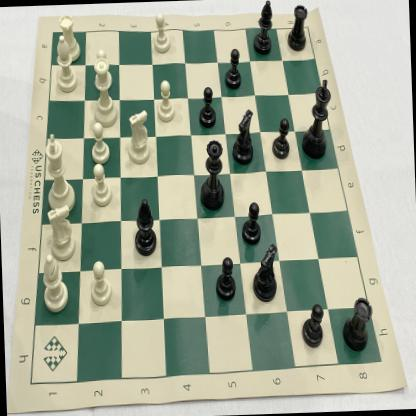bishop: (40, 252, 71, 312), (130, 195, 158, 259), (53, 34, 80, 95), (251, 0, 277, 59)
king: (298, 77, 334, 162), (43, 128, 77, 214)
knight: (251, 240, 283, 306), (45, 202, 78, 264), (124, 108, 152, 168), (230, 105, 255, 168)
pawn: (298, 300, 328, 352), (88, 259, 114, 309), (212, 253, 238, 302), (268, 114, 292, 164), (88, 162, 113, 210), (239, 200, 264, 247), (196, 84, 218, 134), (150, 12, 173, 56), (156, 80, 177, 126), (92, 48, 114, 91), (89, 121, 110, 166), (222, 46, 242, 92)
queen: (198, 134, 228, 214), (88, 57, 121, 127)
rook: (339, 294, 375, 355), (286, 0, 312, 56), (57, 8, 83, 64)
